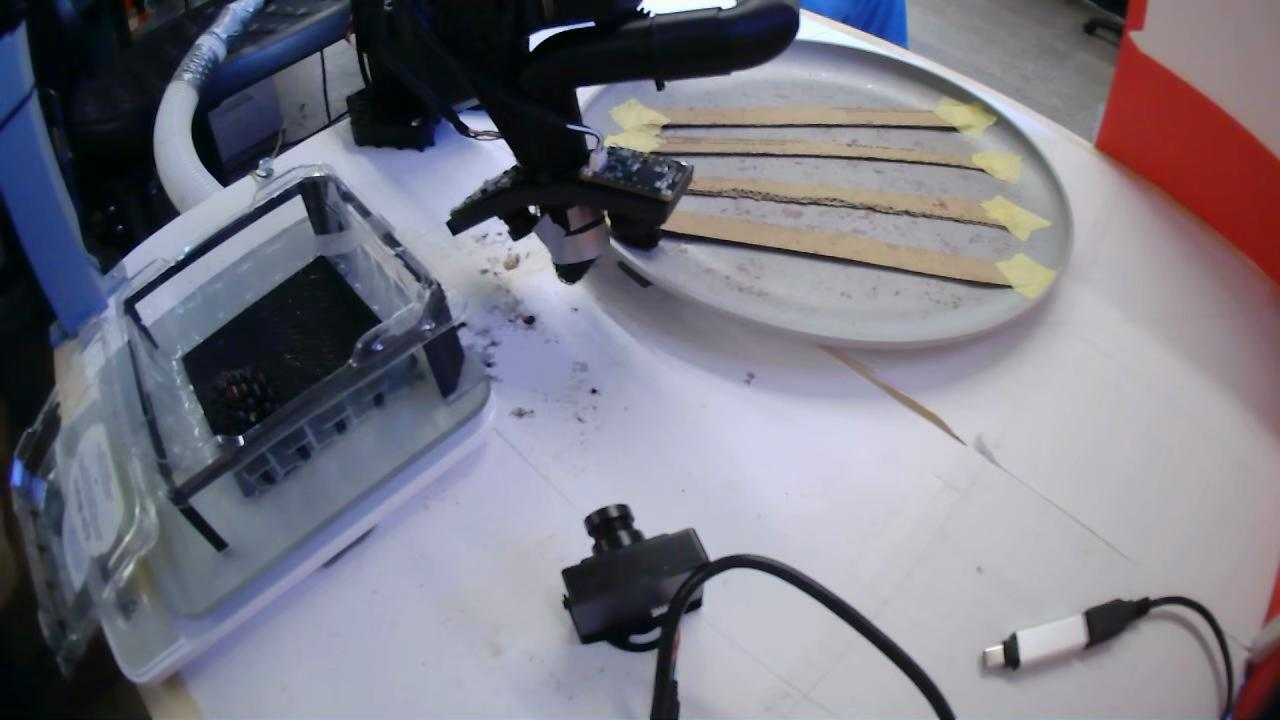berry: (211, 368, 276, 426), (612, 225, 661, 250)
